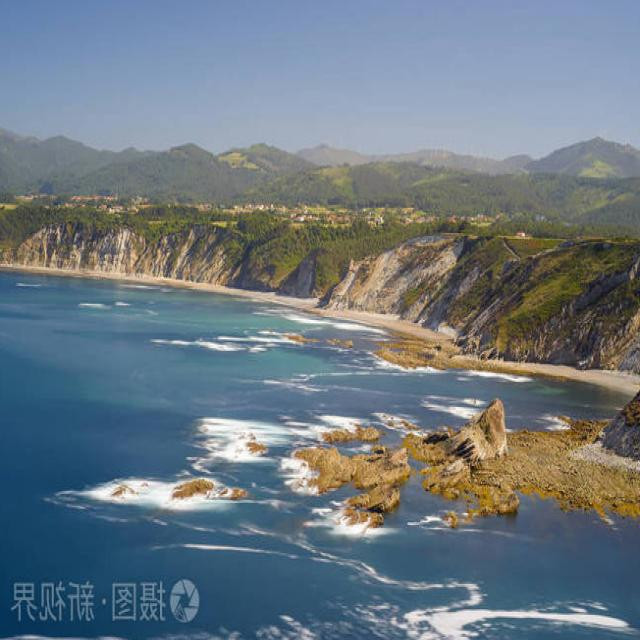reef: (274, 381, 588, 558)
